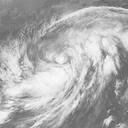cyclone: (19, 8, 101, 99)
